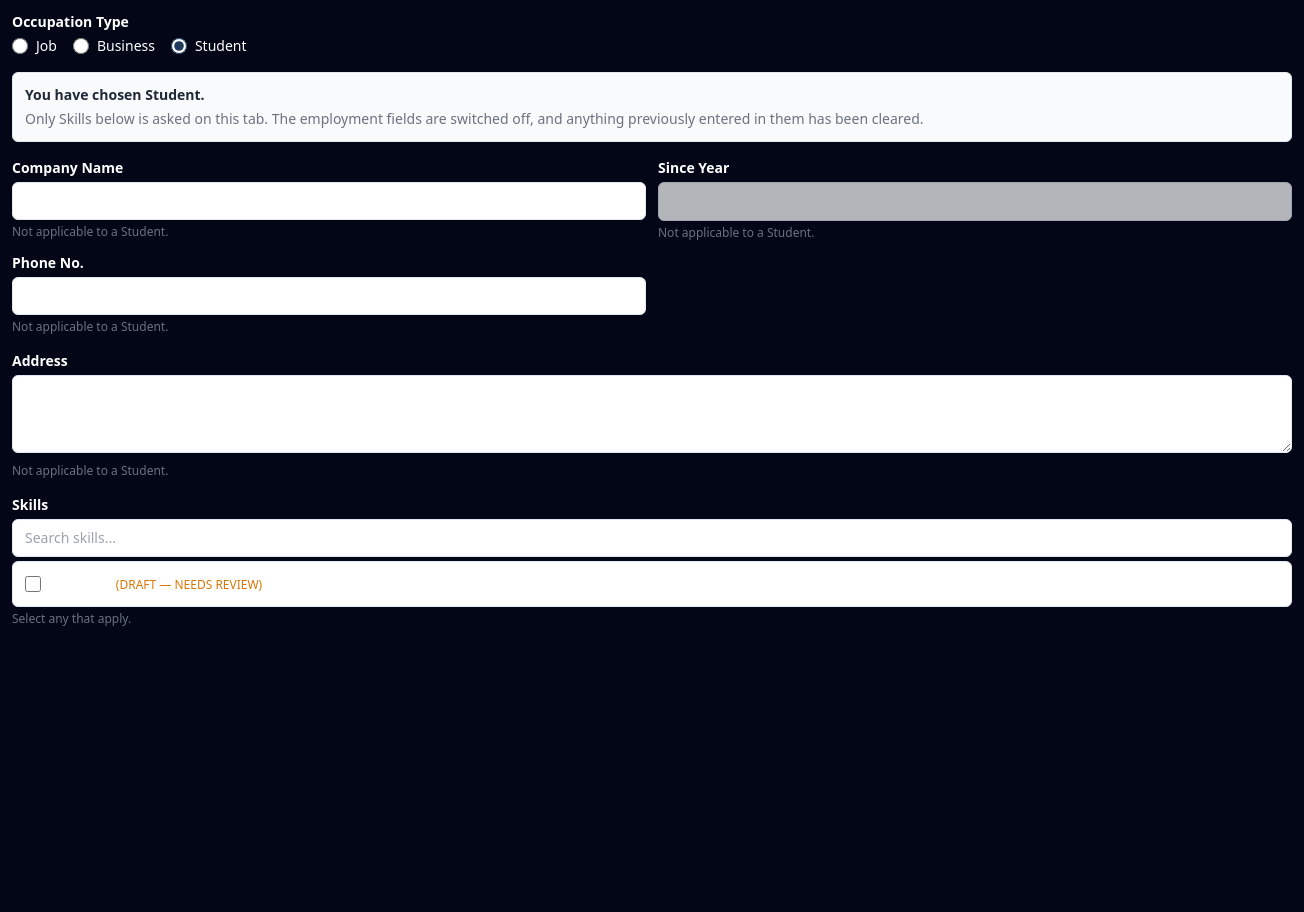
Test: Tab 4 — Occupation › Student › switches them back on when the member leaves Student
Expected: the field labelled "Company Name" is disabled, left=12, top=182, right=646, bottom=220
Click the radio button labelled "Job" at (20, 46), box left=12, top=38, right=28, bottom=54
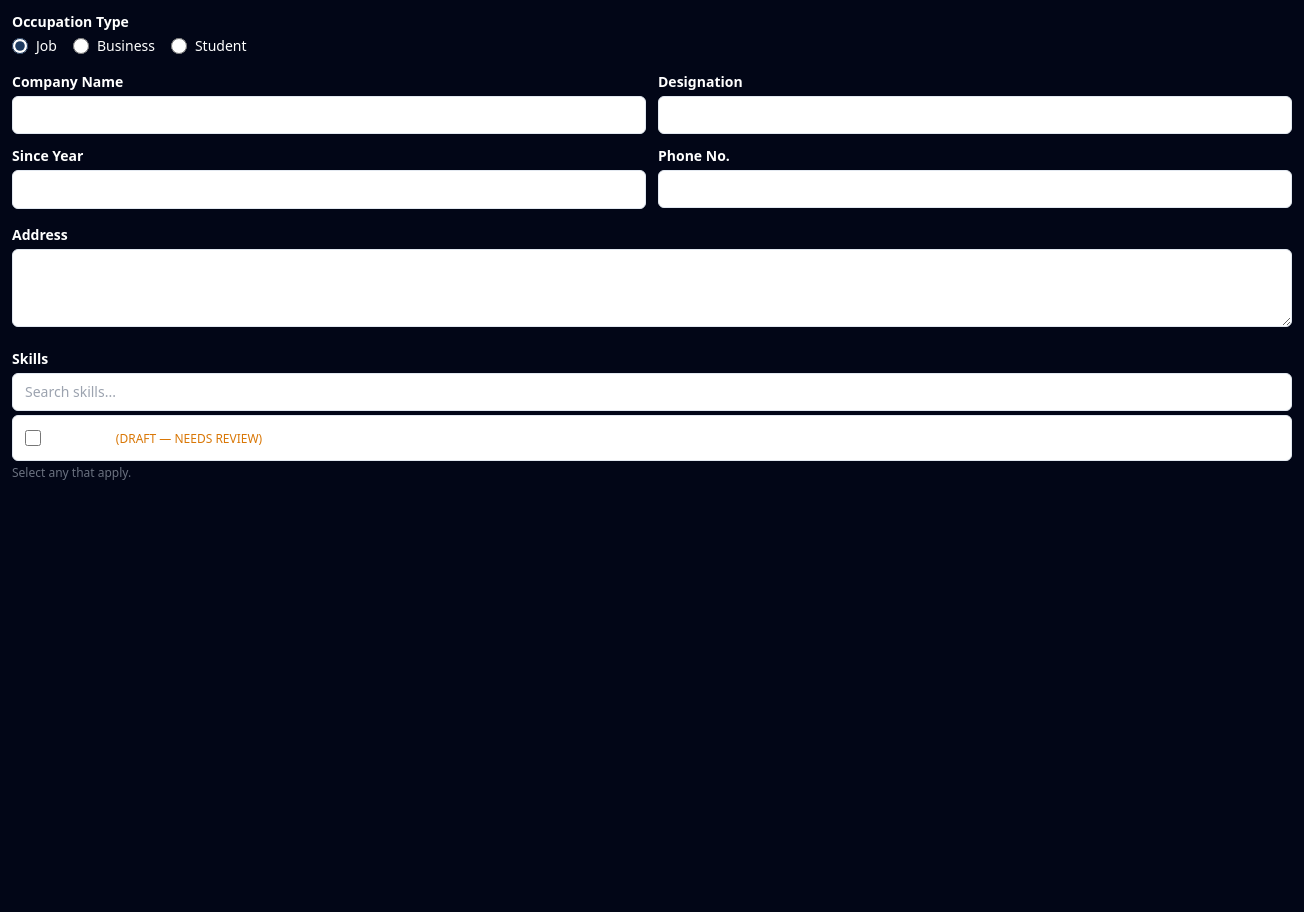
Now the dropdown labelled "Since Year" is enabled, box left=12, top=170, right=646, bottom=209
Now the field labelled "Phone No." is enabled, box left=658, top=170, right=1292, bottom=208
Now the text box labelled "Address" is enabled, box left=12, top=249, right=1292, bottom=327
